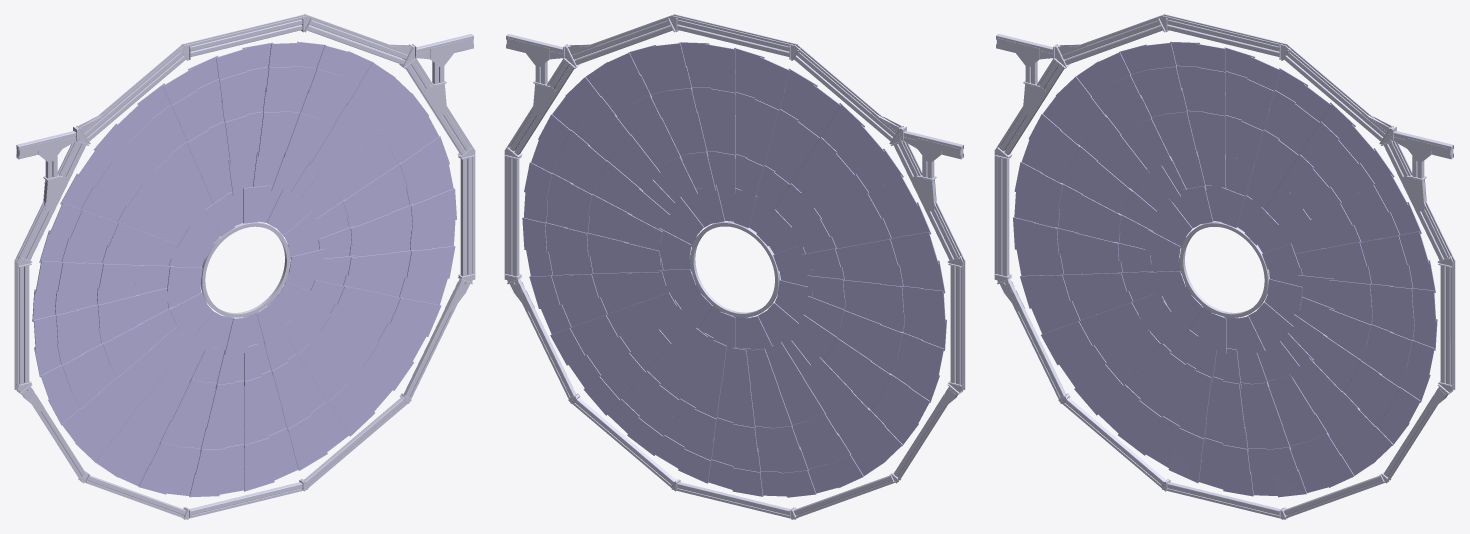
The model's file is TGC2-SideC-cut4.glb.
3 views of the same model, side by side, from view 1: azimuth 30°, elevation 25°; view 2: azimuth 150°, elevation 25°; view 3: azimuth 330°, elevation 25° (orthographic).
Visible parts, largest first — view 1: null; view 2: null; view 3: null.
Part boxes in pixels (bbox=[...]): null: bbox=[14, 14, 475, 519]; null: bbox=[504, 14, 965, 519]; null: bbox=[994, 14, 1455, 519].
Size of the model in its own units: 25.91 by 25.65 by 0.4083.
